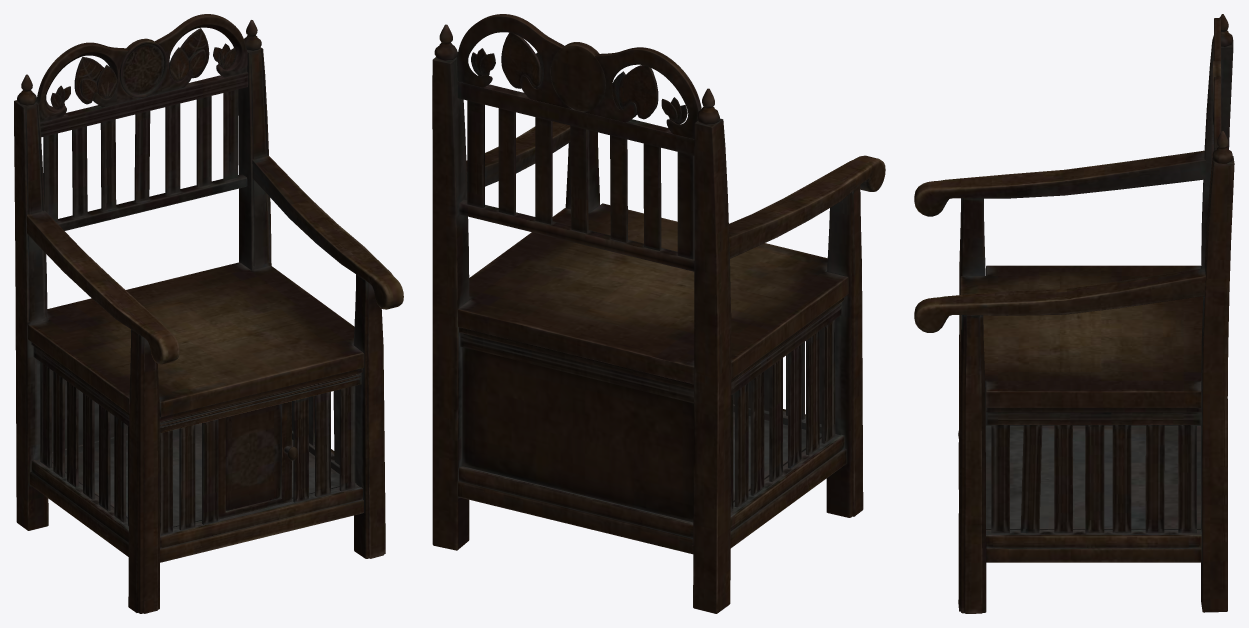
File: ph_gallinera_chair.glb
3 renders of one model, left to right at view 1: azimuth 30°, elevation 25°; view 2: azimuth 150°, elevation 25°; view 3: azimuth 270°, elevation 25°, orthographic. The views are drawn at different scales.
Visible parts, largest first — view 1: ph_gallinera_chair; view 2: ph_gallinera_chair; view 3: ph_gallinera_chair.
Boxes of the visible parts, x1=… form: ph_gallinera_chair: x1=14, y1=14, x2=403, y2=613; ph_gallinera_chair: x1=432, y1=14, x2=885, y2=613; ph_gallinera_chair: x1=914, y1=14, x2=1234, y2=613.
Bounding box in the file's own units: 0.5808 × 1.03 × 0.6039.
1 material, 1 textured.
